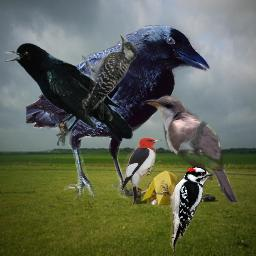Crow: (26, 25, 210, 202), (3, 43, 133, 146)
Cuckoo: (143, 93, 237, 206)
Woodpecker: (157, 166, 214, 252), (82, 31, 137, 120), (120, 137, 162, 206)
